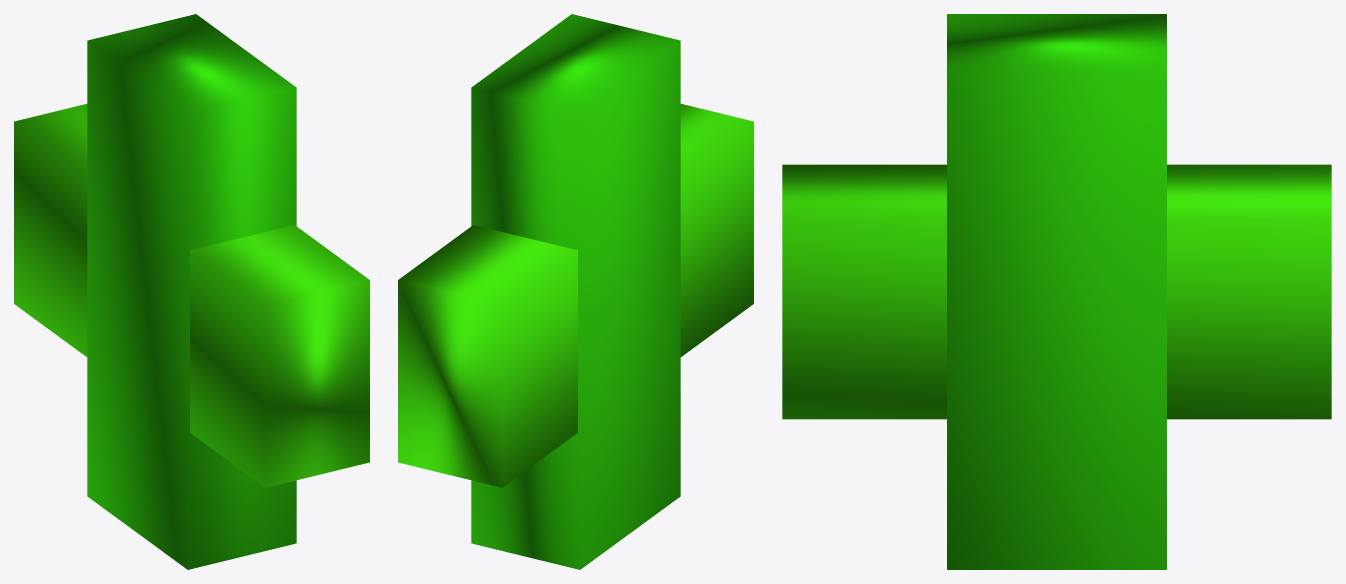
Rendered from healthPref.fbx.
3 renders of one model, left to right at view 1: azimuth 30°, elevation 25°; view 2: azimuth 150°, elevation 25°; view 3: azimuth 270°, elevation 25°, orthographic. The views are drawn at different scales.
Visible parts, largest first — view 1: Cube.001, Cube; view 2: Cube.001, Cube; view 3: Cube.001, Cube.
Part boxes in pixels (left/top/right/bottom): Cube.001: left=87, top=14, right=296, bottom=569; Cube: left=14, top=104, right=369, bottom=487; Cube.001: left=471, top=14, right=680, bottom=569; Cube: left=398, top=104, right=753, bottom=487; Cube.001: left=947, top=14, right=1166, bottom=569; Cube: left=782, top=164, right=1331, bottom=419.
Size of the model in its own units: 2.5 by 10 by 10.
